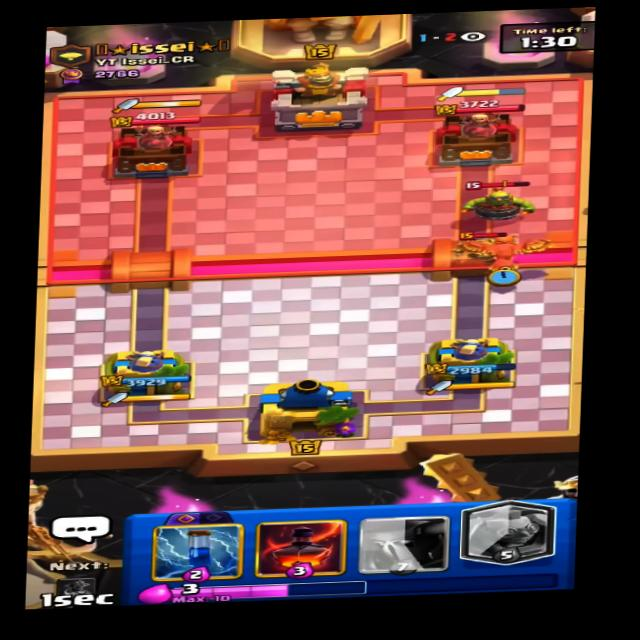goblin-demolisher: (456, 177, 541, 223)
knight: (448, 226, 512, 265)
